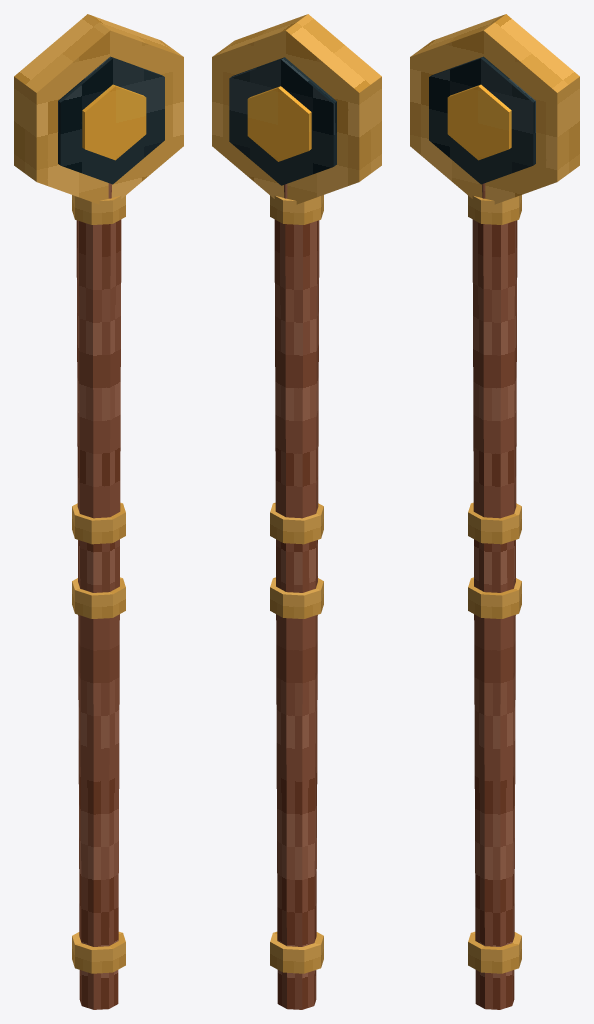
The model's file is proxy-staff.glb.
3 views of the same model, side by side, from view 1: azimuth 30°, elevation 25°; view 2: azimuth 150°, elevation 25°; view 3: azimuth 330°, elevation 25° (orthographic).
Parts seen in each view (by area): view 1: SF_Proxy_Staff.001; view 2: SF_Proxy_Staff.001; view 3: SF_Proxy_Staff.001.
Boxes of the visible parts, x1,y1,x2,y2 form: SF_Proxy_Staff.001: (14,14,183,1009); SF_Proxy_Staff.001: (212,14,381,1009); SF_Proxy_Staff.001: (410,14,579,1009).
Size of the model in its own units: 0.1957 by 1.24 by 0.081.
1 material, 1 textured.
